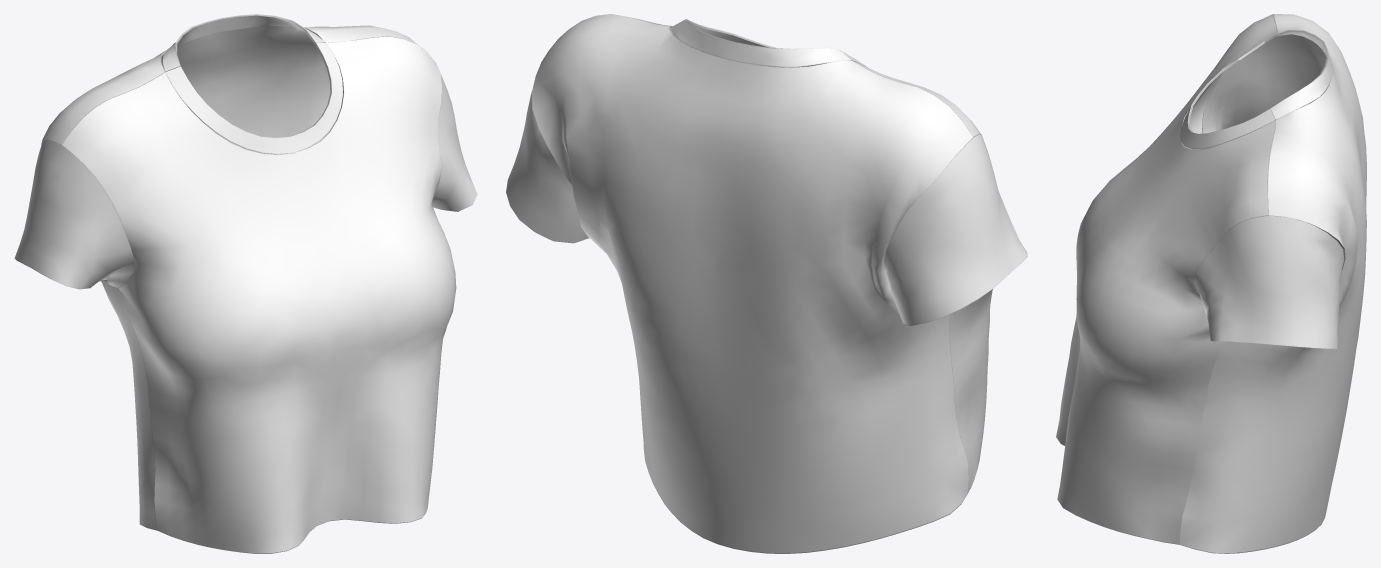
File: tshirt provqa gltf.gltf
The picture shows the model from 3 angles, left to right: view 1: azimuth 30°, elevation 25°; view 2: azimuth 150°, elevation 25°; view 3: azimuth 270°, elevation 25°; orthographic projection. The views are drawn at different scales.
Parts seen in each view (by area): view 1: Cloth; view 2: Cloth; view 3: Cloth.
Part boxes in pixels (x1,y1,x2,y2): Cloth: (14,14,477,553); Cloth: (506,14,1027,553); Cloth: (1056,14,1366,553).
Bounding box in the file's own units: 1.46 × 1.45 × 0.9022.
Materials: 1 (1 with a texture image).
